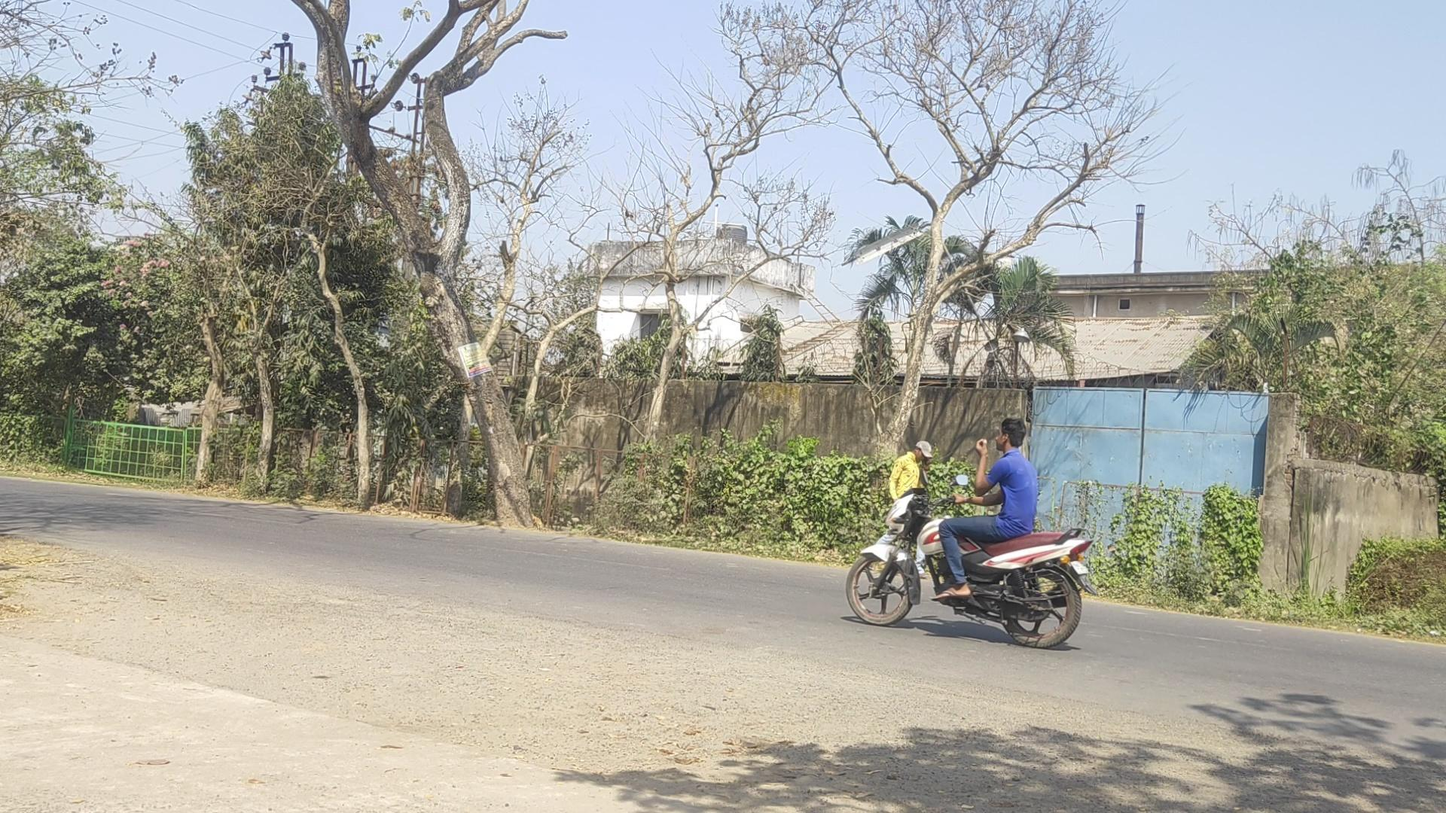bike: (846, 418, 1095, 649)
